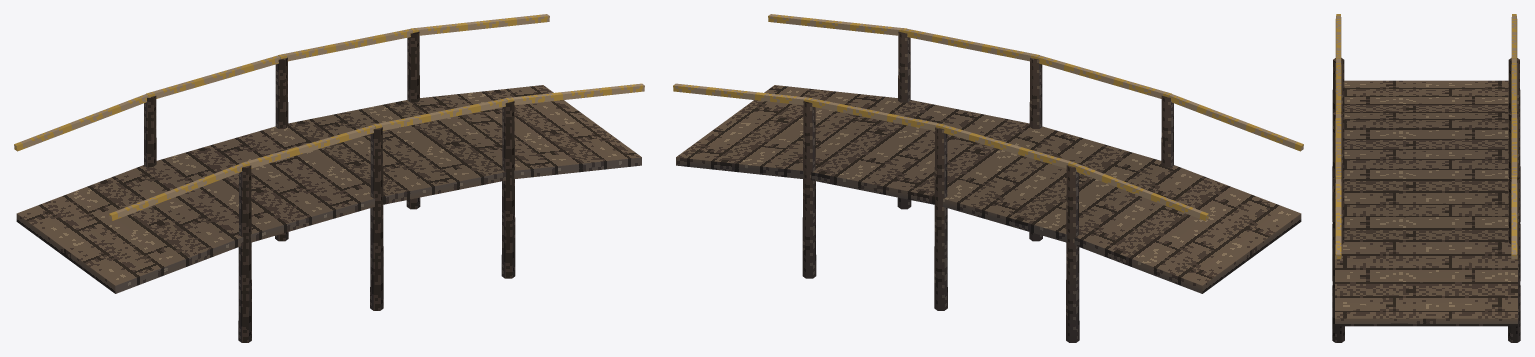
The model's file is vlg.bridge__timber.glb.
The picture shows the model from 3 angles, left to right: view 1: azimuth 30°, elevation 25°; view 2: azimuth 150°, elevation 25°; view 3: azimuth 270°, elevation 25°; orthographic projection. The views are drawn at different scales.
Visible parts, largest first — view 1: kit_deck, kit_rail; view 2: kit_deck, kit_rail; view 3: kit_deck, kit_rail.
Part boxes in pixels (<box>): kit_deck: <box>16,85,641,293</box>; kit_rail: <box>14,14,644,342</box>; kit_deck: <box>676,85,1301,293</box>; kit_rail: <box>673,14,1303,342</box>; kit_deck: <box>1335,80,1517,326</box>; kit_rail: <box>1332,14,1520,342</box>.
Bounding box in the file's own units: 8.1 × 2.66 × 2.68.
3 materials, 3 textured.
